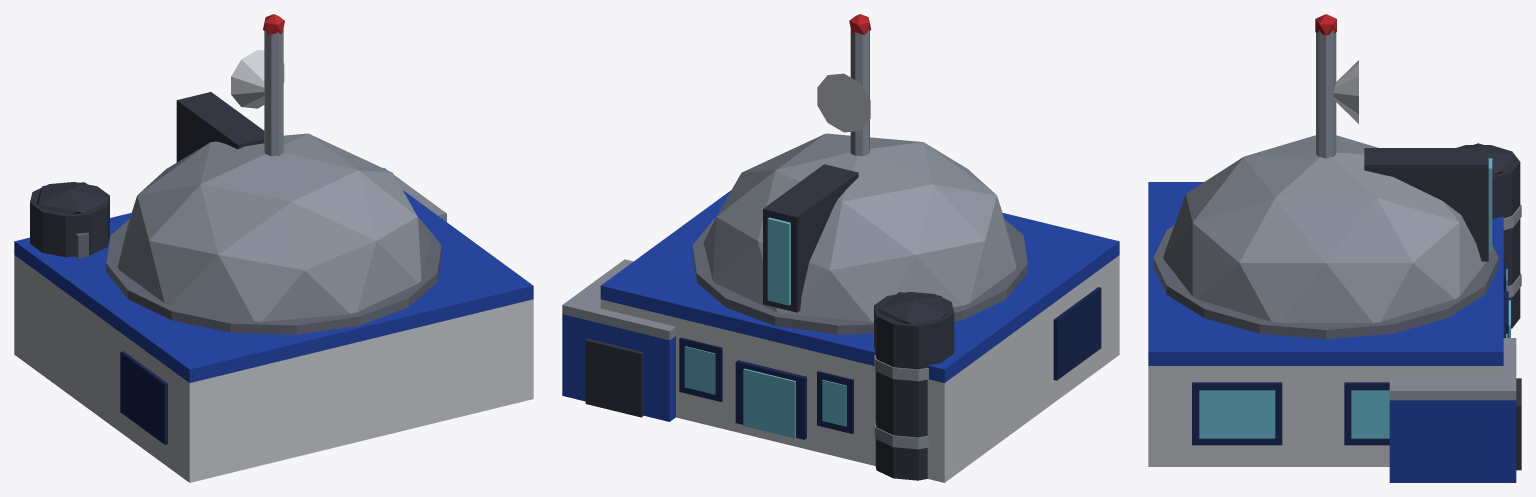
The model's file is Decor_HeroHQ_Lab.fbx.
The picture shows the model from 3 angles, left to right: view 1: azimuth 30°, elevation 25°; view 2: azimuth 150°, elevation 25°; view 3: azimuth 270°, elevation 25°; orthographic projection.
Parts seen in each view (by area): view 1: Lab_Body; view 2: Lab_Body; view 3: Lab_Body.
Part boxes in pixels (box(x1,y1,x2,y2)): Lab_Body: box(14, 14, 533, 482); Lab_Body: box(562, 14, 1119, 482); Lab_Body: box(1148, 14, 1521, 482).
Bounding box in the file's own units: 17.5 × 16 × 14.7.
